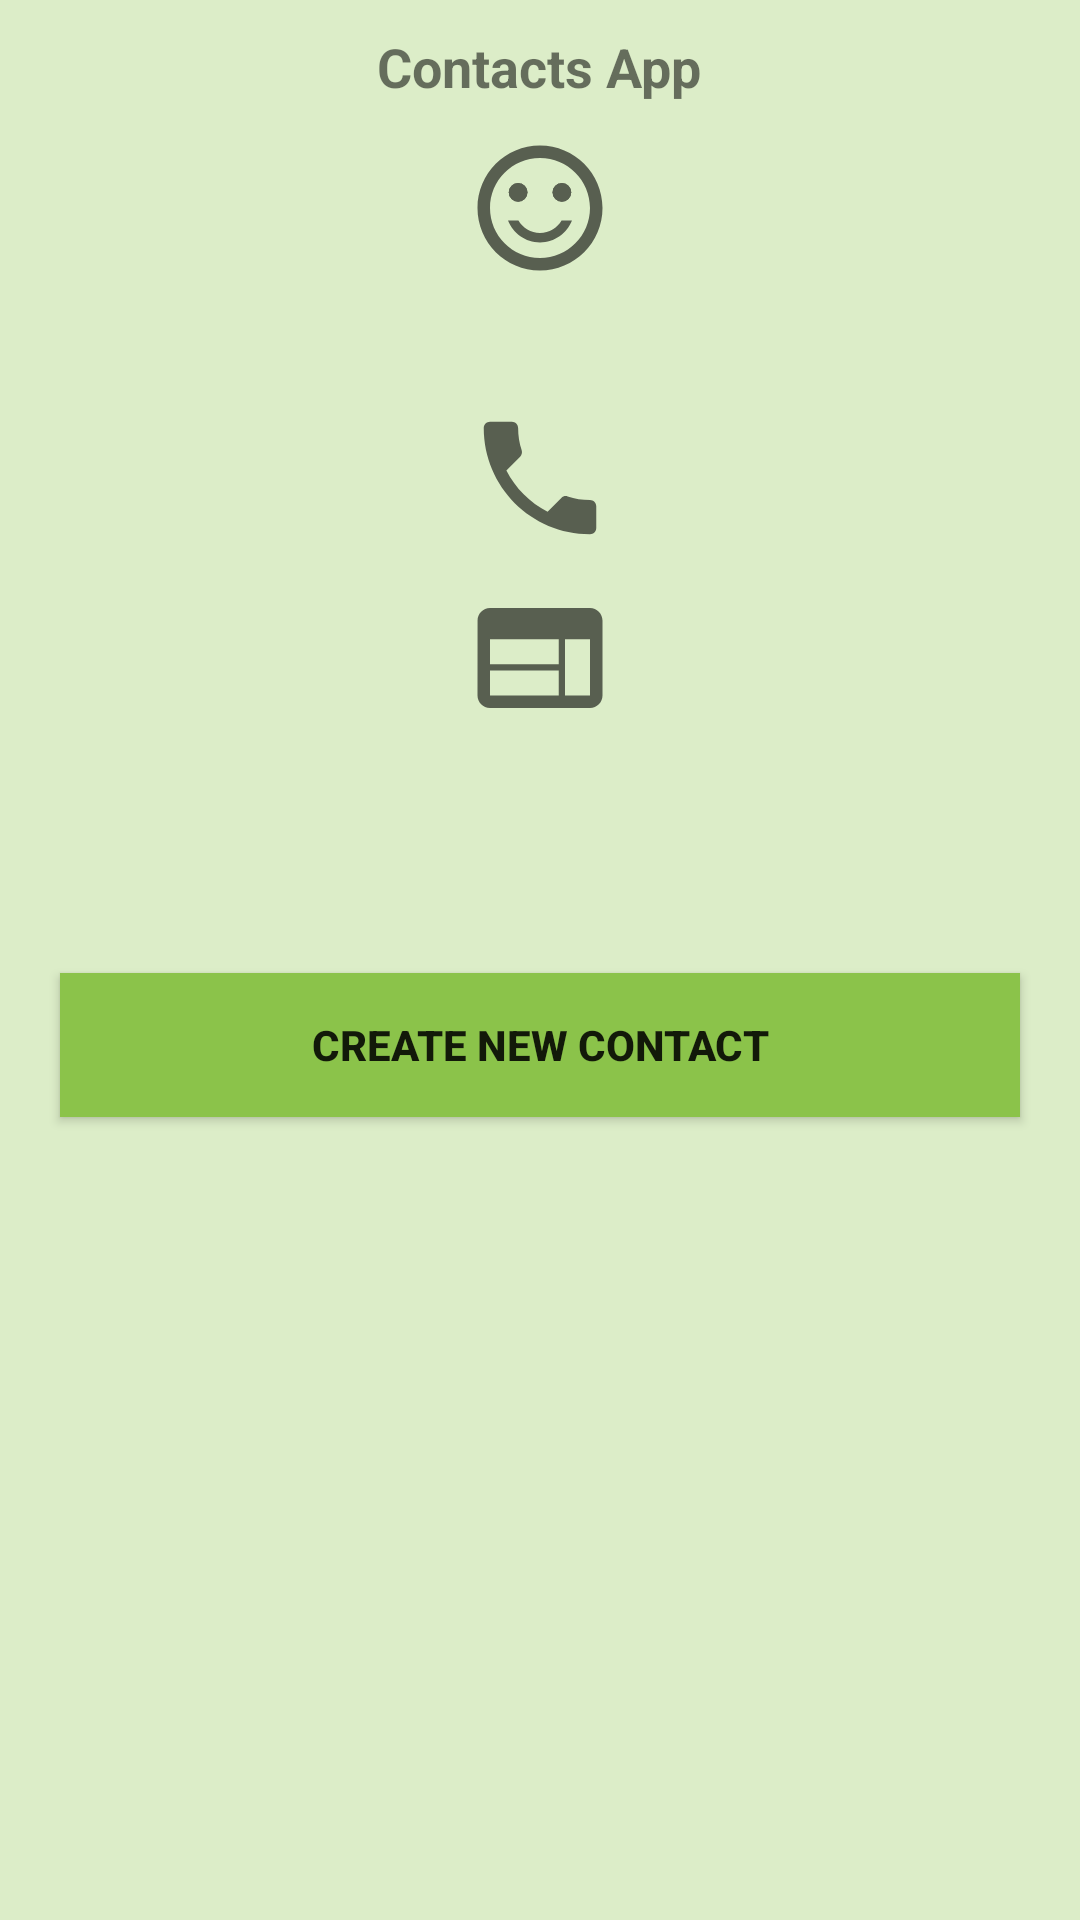

Screen size 1080w x 1920h. Icon name, then its center in pixels as (x,y):
happy: (540,208)
phone: (540,478)
web: (540,658)
